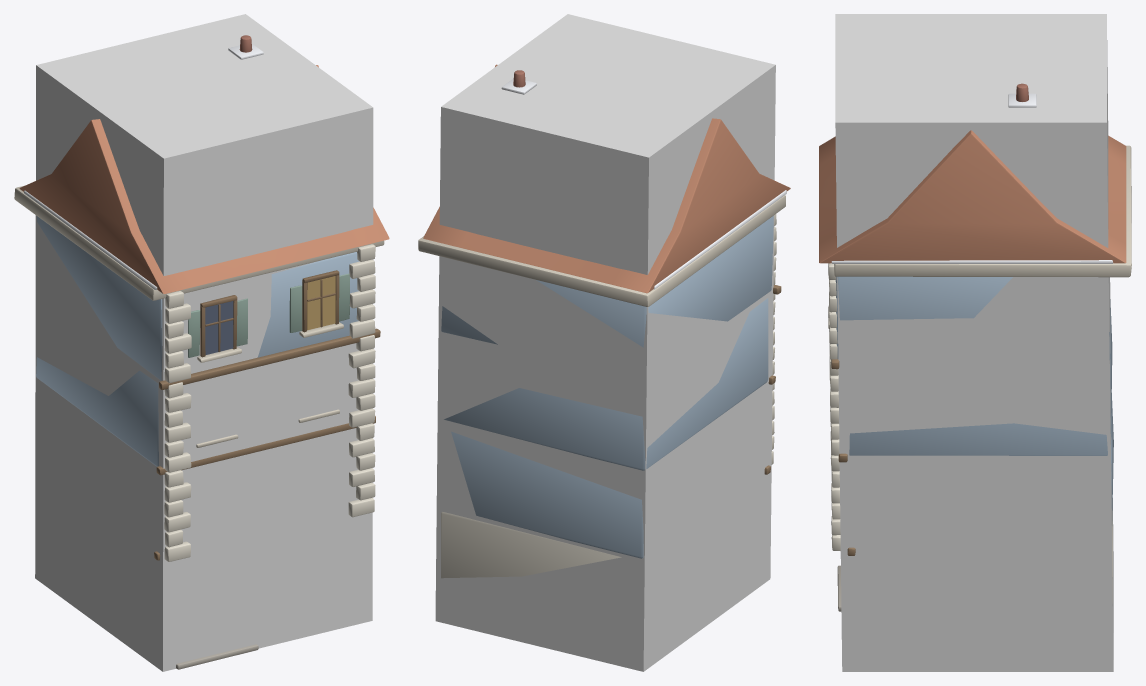
Rendered from tenement_e.glb.
3 renders of one model, left to right at view 1: azimuth 30°, elevation 25°; view 2: azimuth 150°, elevation 25°; view 3: azimuth 270°, elevation 25°, orthographic. The views are drawn at different scales.
Visible parts, largest first — view 1: tenement_e-col, tenement_e; view 2: tenement_e-col, tenement_e; view 3: tenement_e-col, tenement_e.
Part boxes in pixels (bbox=[...]): tenement_e-col: bbox=[35, 14, 373, 671]; tenement_e: bbox=[14, 35, 389, 669]; tenement_e-col: bbox=[435, 14, 775, 671]; tenement_e: bbox=[418, 64, 790, 578]; tenement_e-col: bbox=[835, 14, 1113, 671]; tenement_e: bbox=[819, 83, 1131, 611].
Size of the model in its own units: 9.1 by 19.88 by 9.98.
